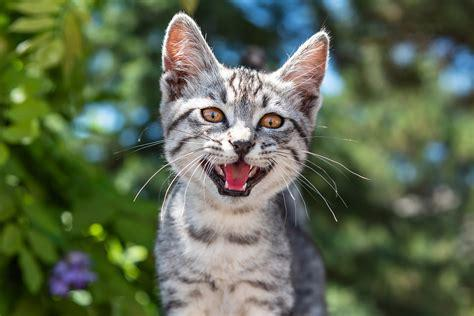cat: (156, 13, 328, 316)
